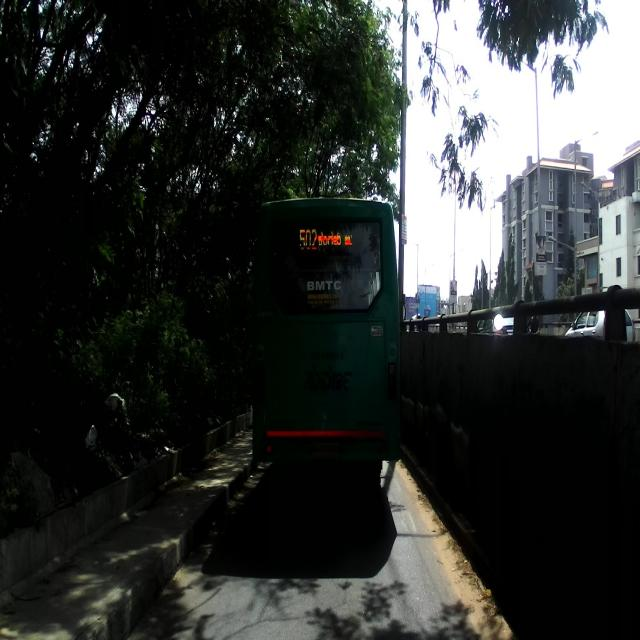bus: (250, 197, 401, 478)
